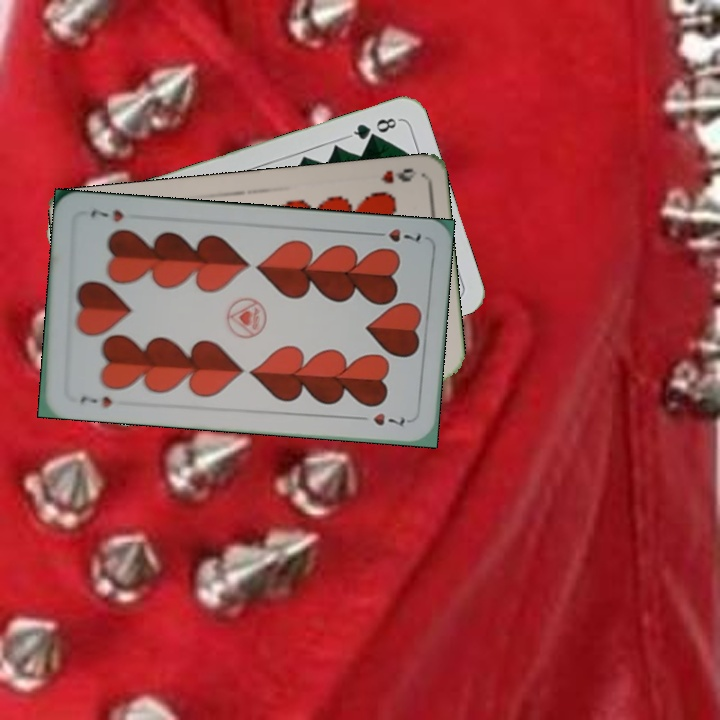G8: (344, 113, 402, 143)
H7: (367, 224, 424, 245), (76, 392, 115, 411)
H9: (377, 164, 419, 186)
